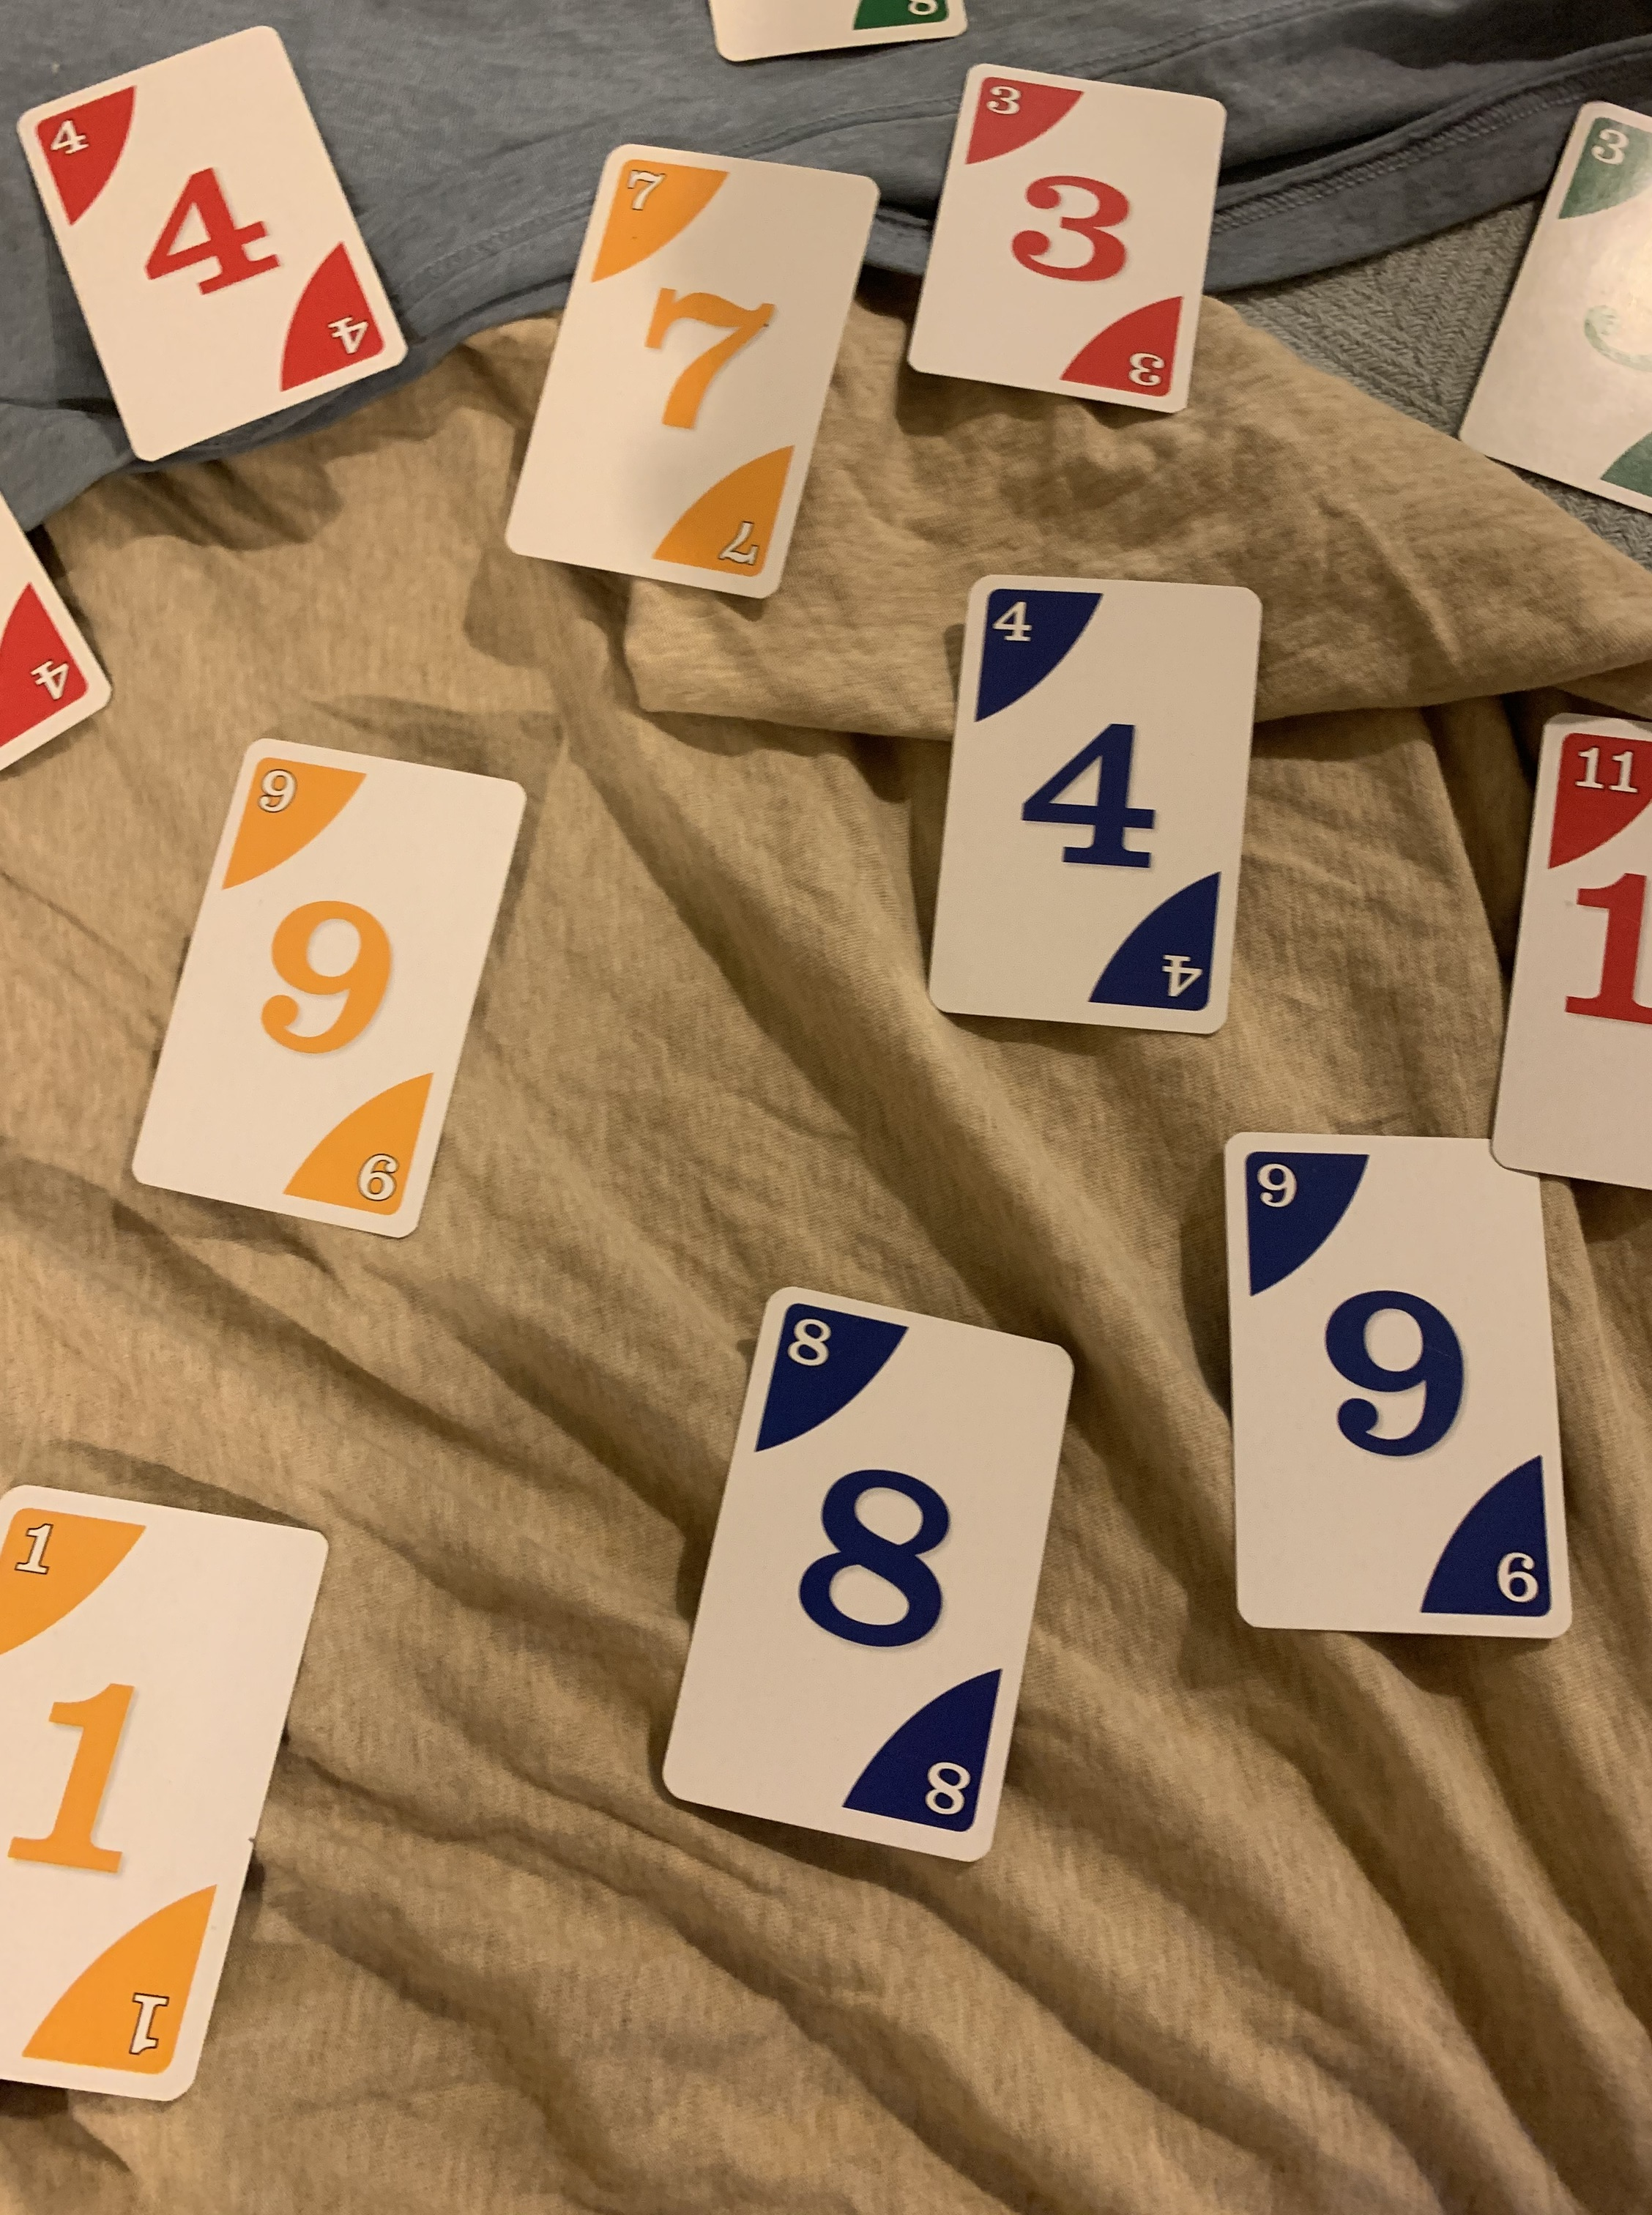eight: (661, 1278, 1081, 1871)
four: (915, 566, 1301, 1055), (0, 17, 416, 470)
nine: (123, 727, 531, 1252), (1206, 1123, 1591, 1661)
one: (0, 1467, 338, 2104)
seven: (505, 137, 880, 620)
three: (906, 64, 1230, 427)
